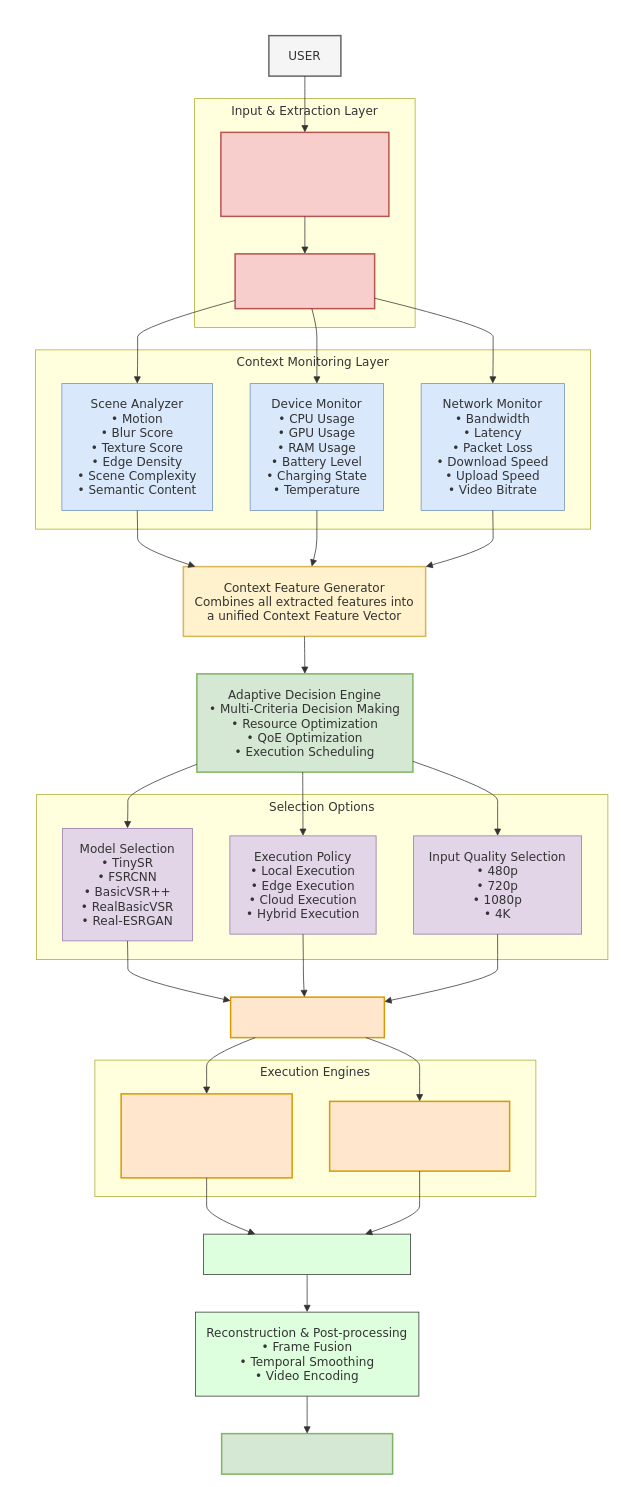
This 621x1487 diagram has some shape labels left out. Each missing label, with the centre of its shape:
Edge / Cloud Execution • GPU Cluster • Docker Containers • Resource Pool: [206,1135]
Enhanced Output Video: [306,1453]
Execution Scheduler: [307,1017]
Input Acquisition Layer • Local Video • YouTube URL • Live Stream: [304,174]
Local Execution Engine • Uses Device CPU / GPU • ONNX / CUDA: [419,1136]
Video Decoding & Frame Extraction: [304,281]
Video Super Resolution Engine: [307,1254]
